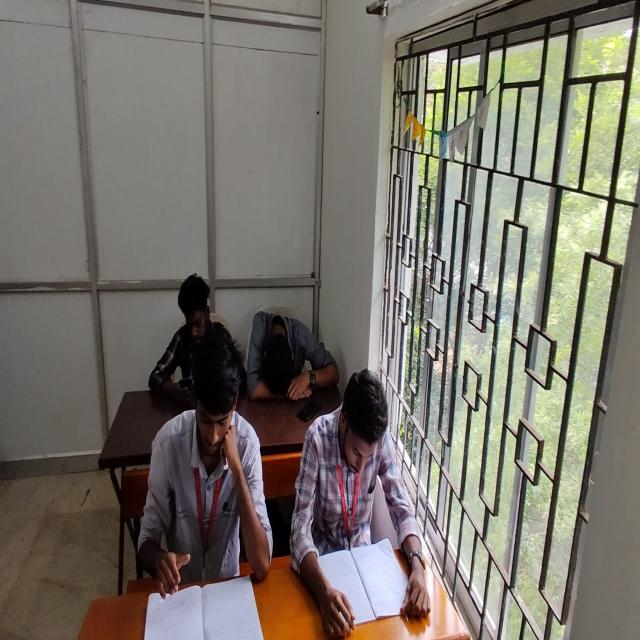reading: (137, 322, 273, 602), (308, 368, 428, 639)
sleeping: (246, 310, 338, 403)
using_mobile: (148, 272, 244, 402)
